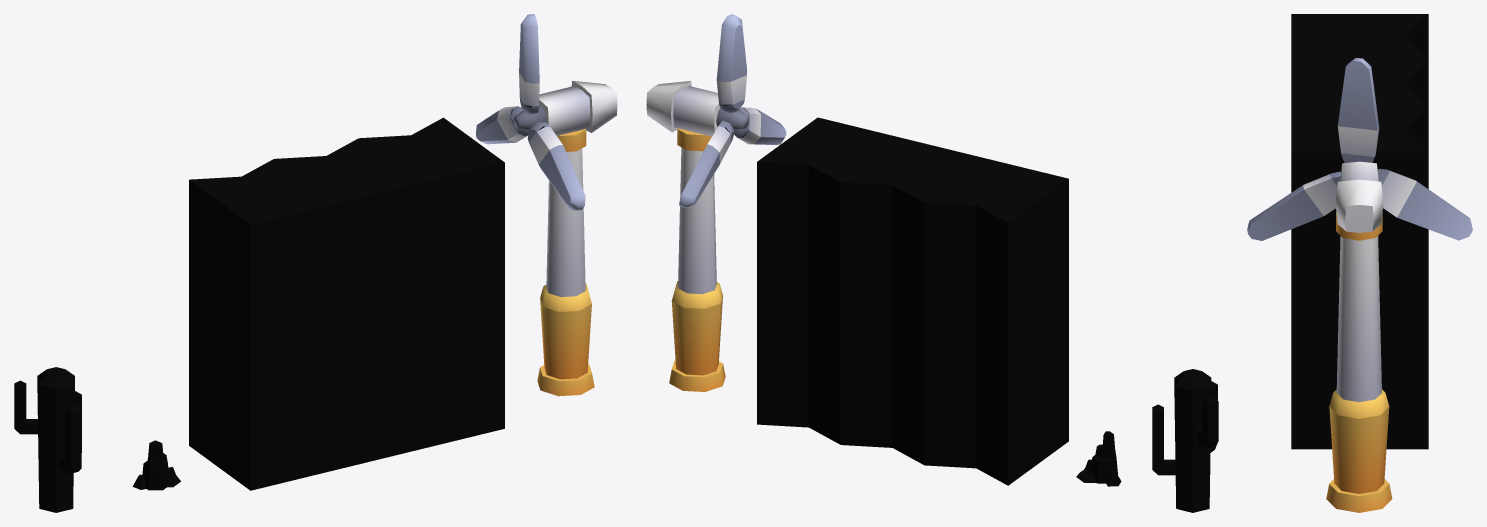
The model's file is Desert.fbx.
The picture shows the model from 3 angles, left to right: view 1: azimuth 30°, elevation 25°; view 2: azimuth 150°, elevation 25°; view 3: azimuth 270°, elevation 25°; orthographic projection. The views are drawn at different scales.
Parts seen in each view (by area): view 1: Desert_Mesa, Desert_Windmill, Desert_Cactus, Desert_Rock; view 2: Desert_Mesa, Desert_Windmill, Desert_Cactus, Desert_Rock; view 3: Desert_Mesa, Desert_Windmill.
Boxes of the visible parts, x1,y1,x2,y2 form: Desert_Mesa: (189,117,504,490); Desert_Windmill: (476,14,617,396); Desert_Cactus: (14,367,81,512); Desert_Rock: (132,440,180,490); Desert_Mesa: (757,117,1068,485); Desert_Windmill: (646,14,786,391); Desert_Cactus: (1152,369,1218,512); Desert_Rock: (1076,431,1121,486); Desert_Mesa: (1291,14,1428,449); Desert_Windmill: (1247,57,1472,512).
Size of the model in its own units: 55.17 by 34 by 16.56.
Materials: 4 (4 with a texture image).
